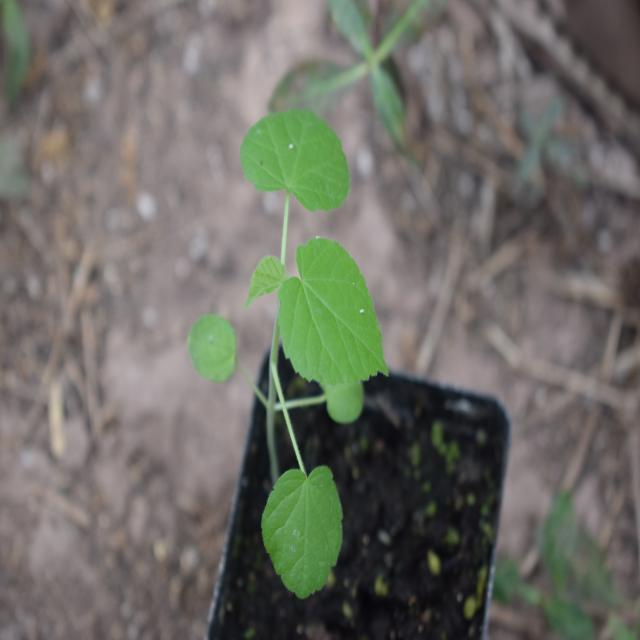abutilon theophrasti: (179, 105, 410, 584)
